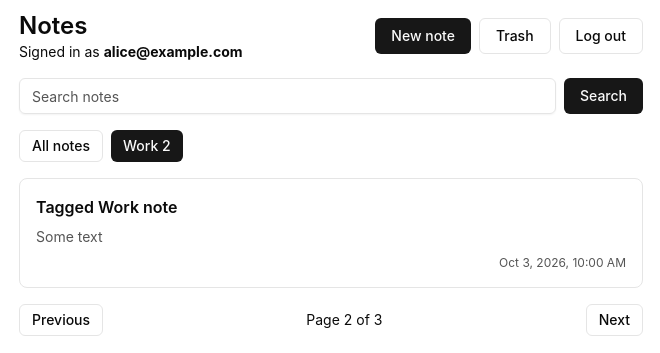
Test: tag filter › All notes clears the filter
What coordinates should you click on to do the following:
click the button "All notes"
I would click on:
 (61, 146)
Its box is [19,130,103,162].
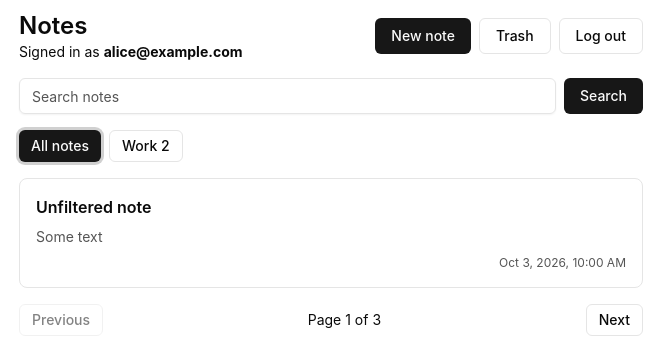
Now the link "Unfiltered note" is shown, box [36,197,151,217]
